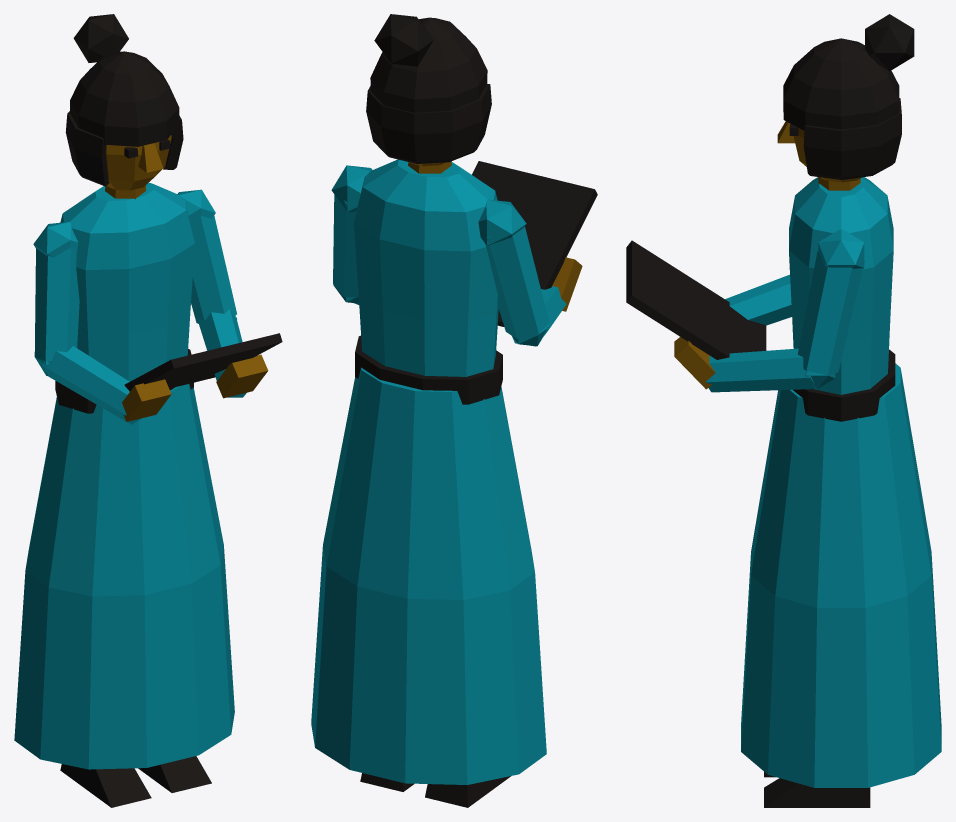
The picture shows the model from 3 angles, left to right: view 1: azimuth 30°, elevation 25°; view 2: azimuth 150°, elevation 25°; view 3: azimuth 270°, elevation 25°; orthographic projection. The views are drawn at different scales.
Visible parts, largest first — view 1: comisaria; view 2: comisaria; view 3: comisaria.
Part boxes in pixels (left/top/right/bottom): comisaria: left=14, top=14, right=282, bottom=807; comisaria: left=311, top=14, right=597, bottom=807; comisaria: left=626, top=14, right=941, bottom=807.
Size of the model in its own units: 0.483 by 1.74 by 0.6527.
